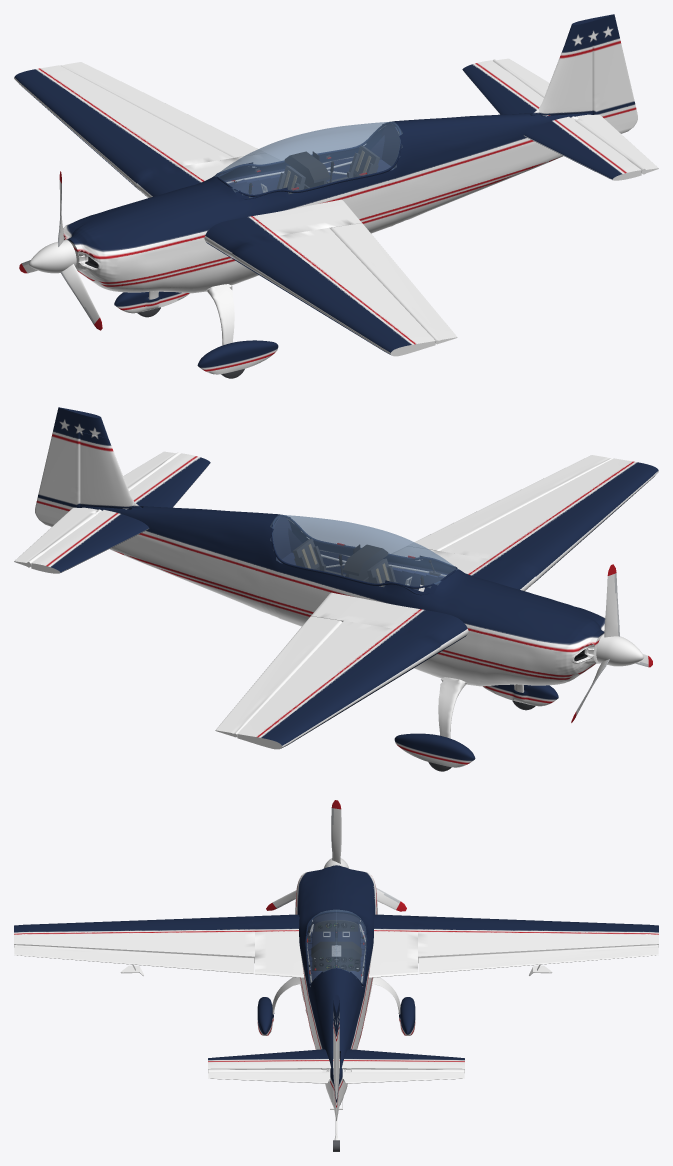
Rendered from extra-300-like-own-unmarked.glb.
3 renders of one model, top to bottom at view 1: azimuth 30°, elevation 25°; view 2: azimuth 150°, elevation 25°; view 3: azimuth 270°, elevation 25°, orthographic. The views are drawn at different scales.
Parts seen in each view (by area): view 1: Fuselage_Painted, Wing, Canopy_Glass, Stab, Rudder, Cockpit_Shell, Aileron_L, Aileron_R, Fin, Wheel_Pants, Elevator_L, Prop (+4 smaller); view 2: Fuselage_Painted, Wing, Canopy_Glass, Stab, Rudder, Cockpit_Shell, Aileron_R, Aileron_L, Fin, Wheel_Pants, Elevator_R, Prop (+4 smaller); view 3: Wing, Fuselage_Painted, Stab, Canopy_Glass, Aileron_L, Aileron_R, Cockpit_Shell, Elevator_L, Elevator_R, Prop, Wheel_Pants, Footwell_Liner (+4 smaller).
Part boxes in pixels (<box>): Fuselage_Painted: <box>63,112,592,293</box>; Wing: <box>14,65,435,356</box>; Canopy_Glass: <box>214,121,402,197</box>; Stab: <box>462,60,641,180</box>; Rudder: <box>565,14,637,133</box>; Cockpit_Shell: <box>224,123,402,197</box>; Aileron_L: <box>330,223,457,344</box>; Aileron_R: <box>60,62,264,157</box>; Fin: <box>531,39,592,115</box>; Wheel_Pants: <box>114,291,278,374</box>; Elevator_L: <box>571,114,658,174</box>; Prop: <box>19,171,102,330</box>; Fuselage_Painted: <box>80,505,605,686</box>; Wing: <box>237,458,658,749</box>; Canopy_Glass: <box>270,514,458,590</box>; Stab: <box>31,453,210,573</box>; Rudder: <box>35,407,107,526</box>; Cockpit_Shell: <box>270,516,448,590</box>; Aileron_R: <box>215,616,342,737</box>; Aileron_L: <box>408,455,612,550</box>; Fin: <box>80,432,141,508</box>; Wheel_Pants: <box>394,684,558,767</box>; Elevator_R: <box>14,507,101,567</box>; Prop: <box>571,564,652,722</box>; Wing: <box>14,914,658,977</box>; Fuselage_Painted: <box>295,865,377,1106</box>; Stab: <box>208,1049,464,1072</box>; Canopy_Glass: <box>306,909,366,986</box>; Aileron_L: <box>14,945,254,975</box>; Aileron_R: <box>418,945,658,975</box>; Cockpit_Shell: <box>307,920,365,986</box>; Elevator_L: <box>208,1069,330,1083</box>; Elevator_R: <box>342,1069,464,1083</box>; Prop: <box>266,800,406,911</box>; Wheel_Pants: <box>257,997,415,1035</box>; Footwell_Liner: <box>311,913,361,947</box>.
Size of the model in its own units: 7.48 by 2.68 by 7.99.
57 materials, 20 textured.
